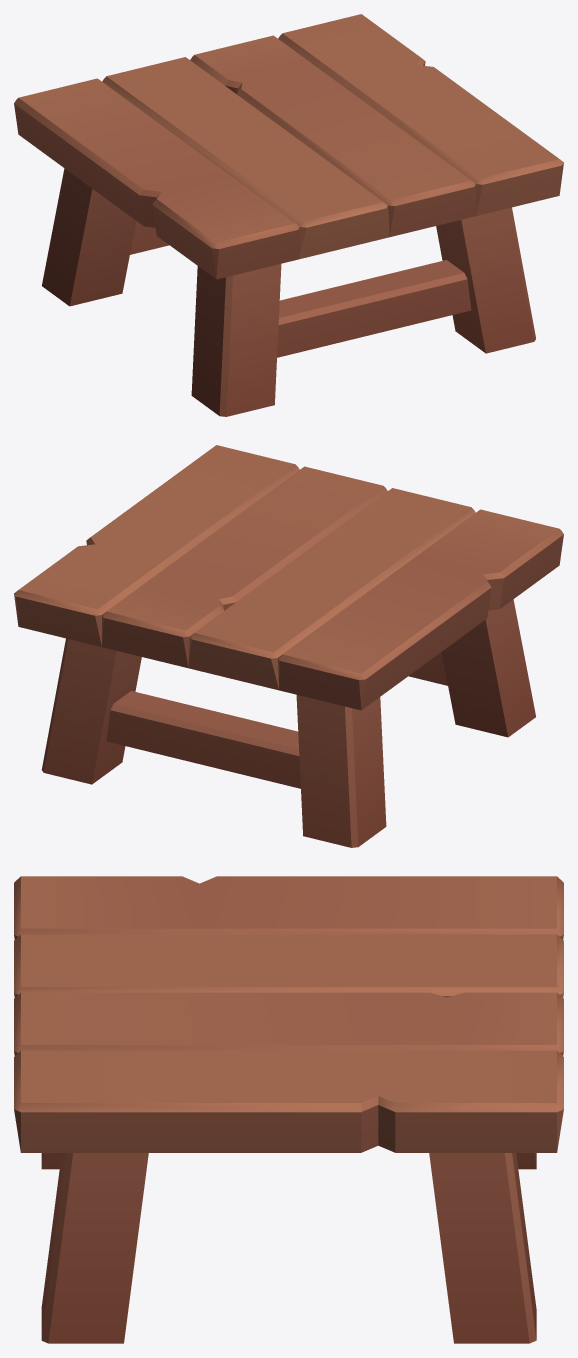
Rendered from tableMedium.glb.
3 renders of one model, top to bottom at view 1: azimuth 30°, elevation 25°; view 2: azimuth 150°, elevation 25°; view 3: azimuth 270°, elevation 25°, orthographic. The views are drawn at different scales.
Parts seen in each view (by area): view 1: table_medium; view 2: table_medium; view 3: table_medium.
Part boxes in pixels (left/top/right/bottom): table_medium: left=14, top=14, right=563, bottom=416; table_medium: left=14, top=445, right=563, bottom=847; table_medium: left=14, top=876, right=563, bottom=1343.
Bounding box in the file's own units: 2 × 1 × 2.
Materials: 1 (1 with a texture image).
